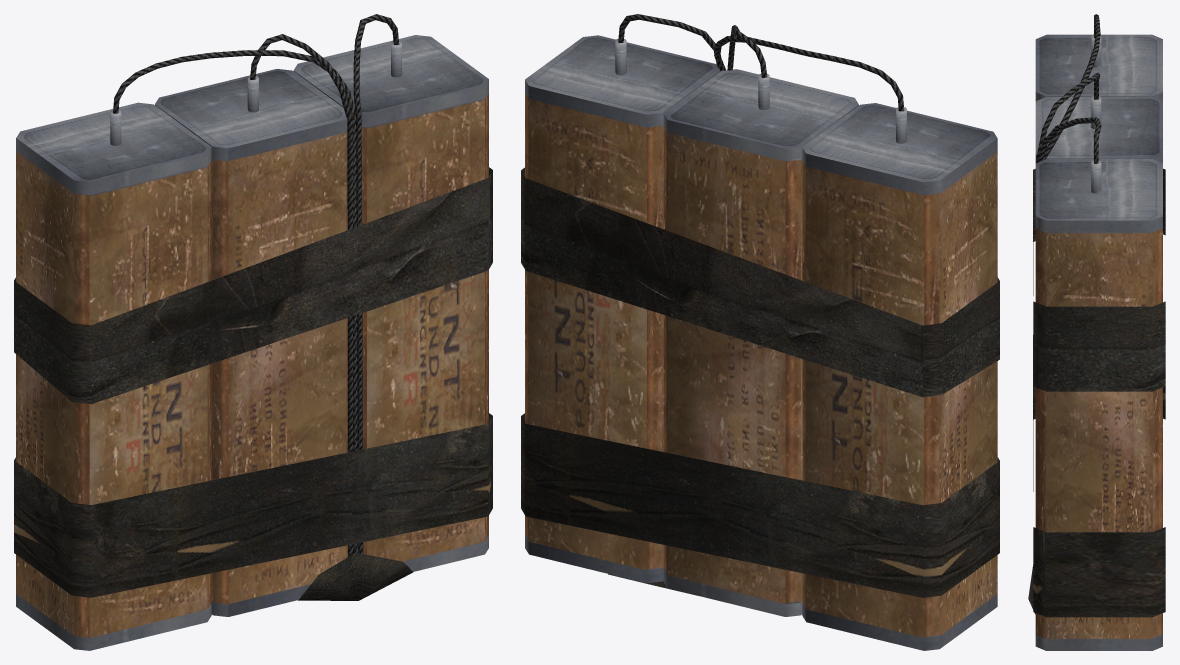
File: weapon_satchel_charge_LOD01.obj
The picture shows the model from 3 angles, left to right: view 1: azimuth 30°, elevation 25°; view 2: azimuth 150°, elevation 25°; view 3: azimuth 270°, elevation 25°; orthographic projection. The views are drawn at different scales.
Visible parts, largest first — view 1: TomGroup_1, TomGroup_0; view 2: TomGroup_1; view 3: TomGroup_1.
Part boxes in pixels (x1=…): TomGroup_1: x1=14, y1=14, x2=492, y2=650; TomGroup_0: x1=298, y1=552, x2=413, y2=600; TomGroup_1: x1=521, y1=14, x2=999, y2=650; TomGroup_1: x1=1033, y1=14, x2=1165, y2=650.
Size of the model in its own units: 28.94 by 36.78 by 8.91.
Materials: 2 (2 with a texture image).
